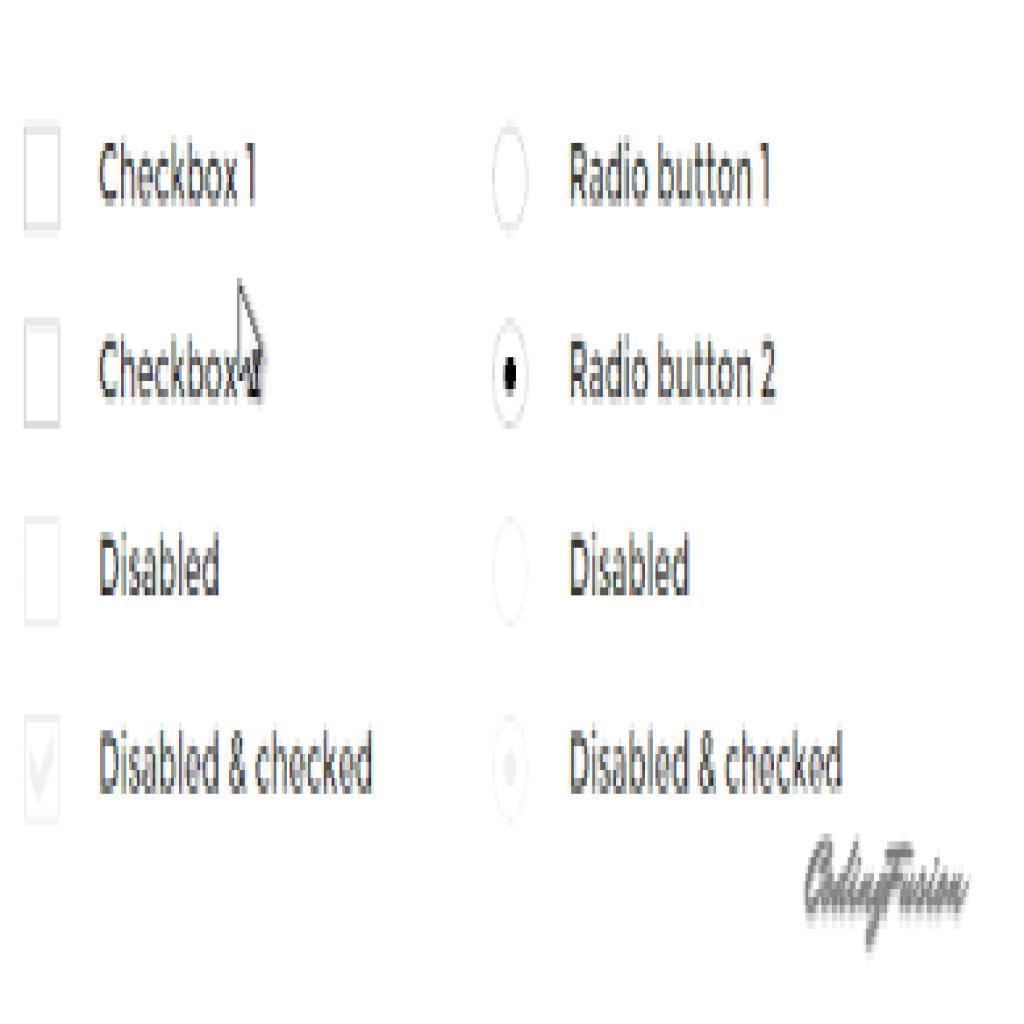checkbox: (23, 713, 65, 830), (24, 126, 64, 238), (24, 321, 61, 426), (25, 518, 61, 625)
radio: (488, 123, 531, 246), (490, 317, 533, 432), (491, 518, 535, 625), (492, 715, 531, 822)
